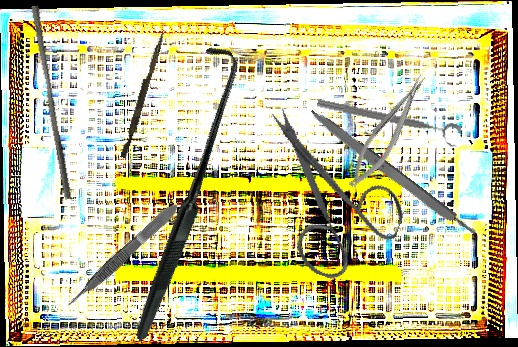Fixation Ring: (314, 95, 462, 149)
Hook Surgical: (28, 39, 335, 342)
Iris Scissors: (226, 105, 424, 295)
Needle Holder: (339, 70, 438, 194)
Pusher: (24, 5, 80, 200), (120, 27, 166, 160)
Scalpel Handle: (306, 107, 478, 241)
Tissue Forceps: (61, 200, 183, 311)
